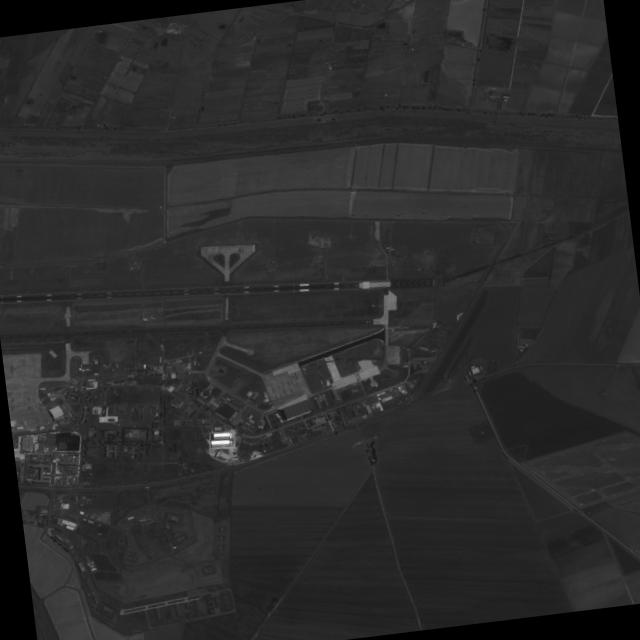plane: (290, 370, 301, 381), (8, 364, 17, 373), (286, 428, 296, 435), (236, 246, 244, 254), (273, 392, 281, 399), (270, 386, 277, 393), (10, 397, 15, 402), (27, 396, 32, 401), (11, 405, 16, 410), (299, 434, 305, 438), (27, 405, 32, 409)
storage-tank: (119, 379, 123, 383), (114, 379, 118, 383)
